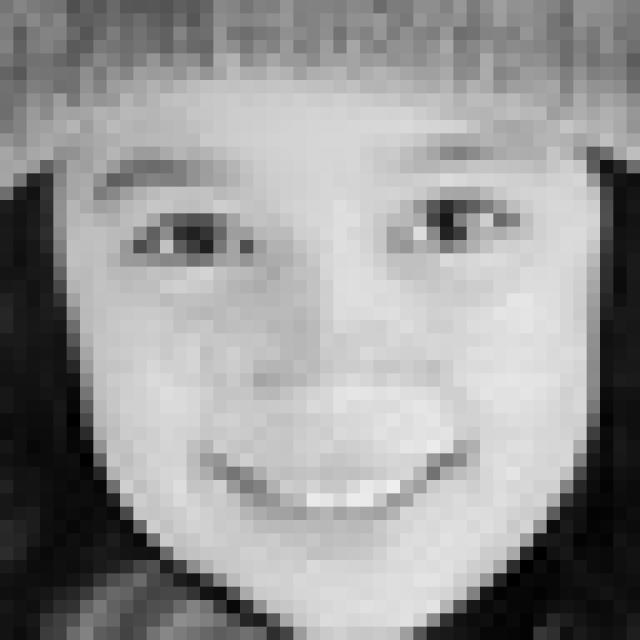happy: (80, 136, 552, 550)
